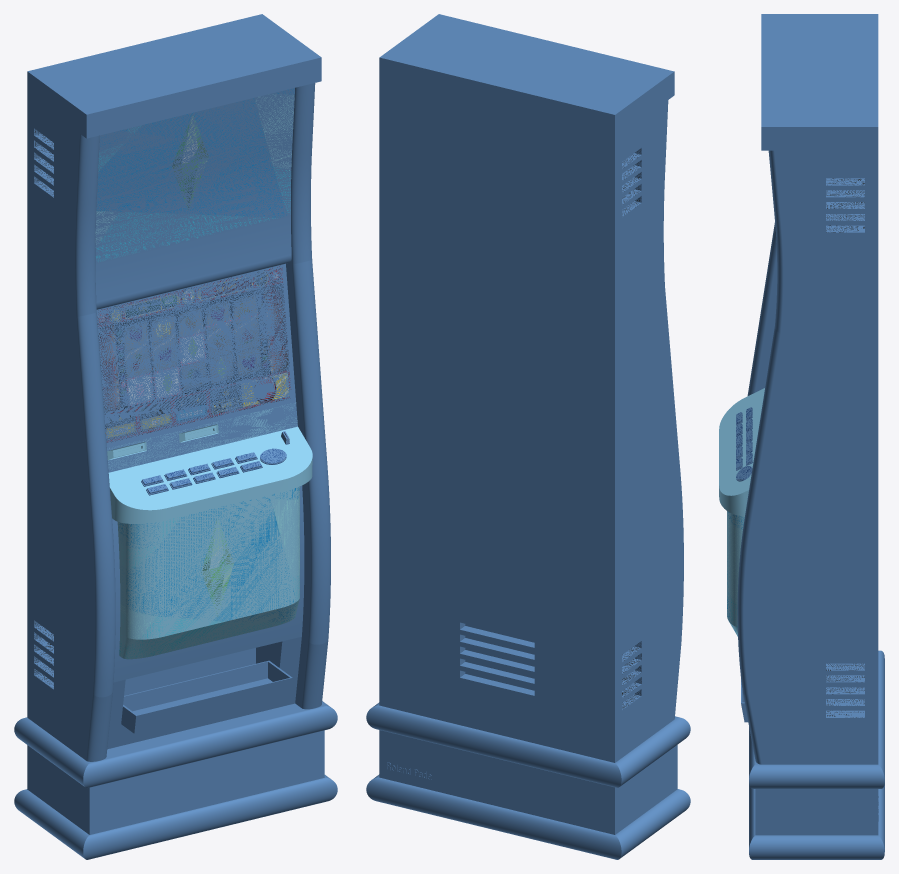
The picture shows the model from 3 angles, left to right: view 1: azimuth 30°, elevation 25°; view 2: azimuth 150°, elevation 25°; view 3: azimuth 270°, elevation 25°; orthographic projection.
Parts seen in each view (by area): view 1: SketchUp_1; view 2: SketchUp_1; view 3: SketchUp_1.
Part boxes in pixels (x1=…): SketchUp_1: x1=14, y1=14, x2=337, y2=859; SketchUp_1: x1=366, y1=14, x2=690, y2=859; SketchUp_1: x1=719, y1=14, x2=884, y2=859.
Bounding box in the file's own units: 2.76 × 7.68 × 1.57.
7 materials, 7 textured.
